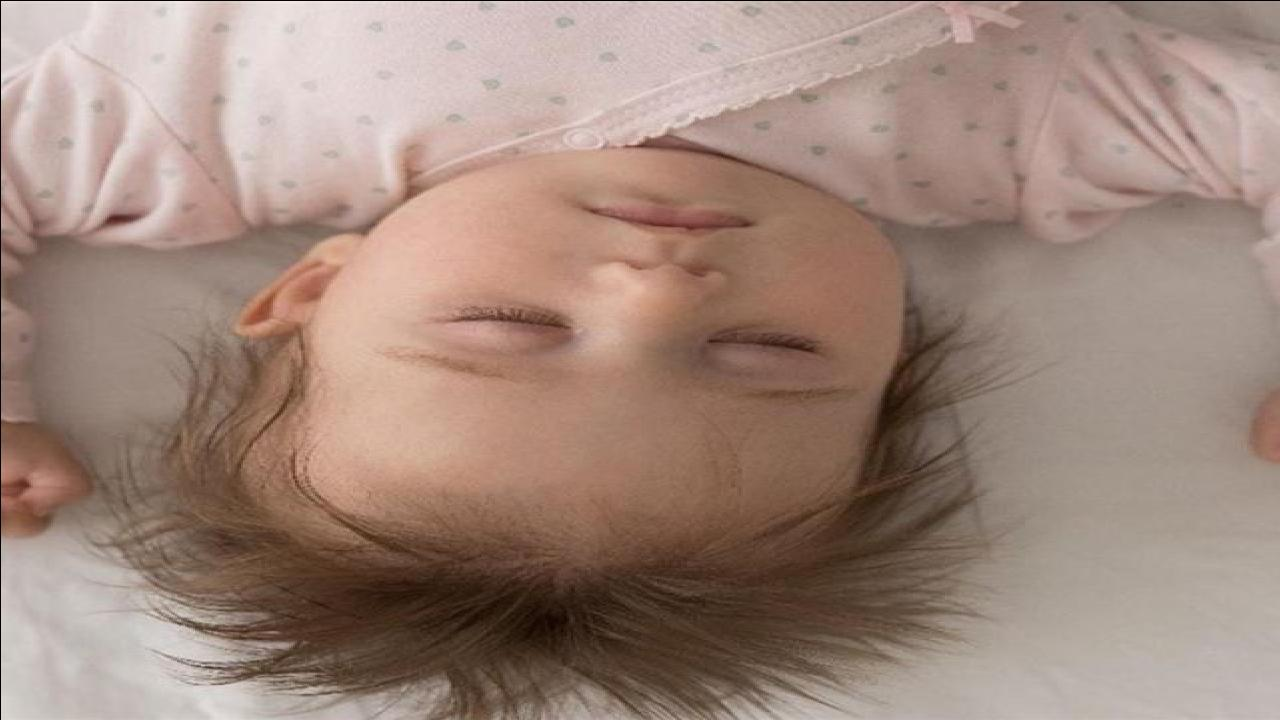hand: (0, 416, 90, 540)
